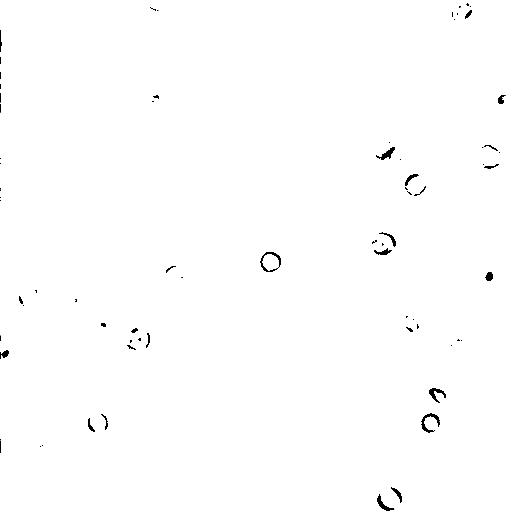micro-algae: (318, 265, 380, 326), (102, 334, 148, 379), (475, 254, 507, 291), (87, 314, 116, 348), (474, 142, 507, 171), (247, 108, 279, 136), (17, 280, 43, 313), (27, 442, 58, 469), (36, 22, 64, 51), (47, 341, 77, 368), (368, 230, 398, 257), (376, 485, 404, 512), (68, 286, 98, 311), (125, 324, 151, 352), (160, 263, 189, 288), (443, 310, 469, 337), (463, 64, 489, 89), (404, 172, 430, 197), (381, 148, 407, 172), (451, 337, 474, 364), (259, 250, 284, 274), (85, 411, 109, 434), (1, 338, 19, 367), (372, 141, 398, 161), (402, 309, 422, 335), (449, 2, 473, 23), (420, 412, 441, 435), (135, 264, 155, 287), (0, 82, 13, 116), (428, 387, 450, 405), (146, 0, 175, 13), (494, 90, 512, 105), (0, 30, 5, 53), (2, 58, 7, 79)
